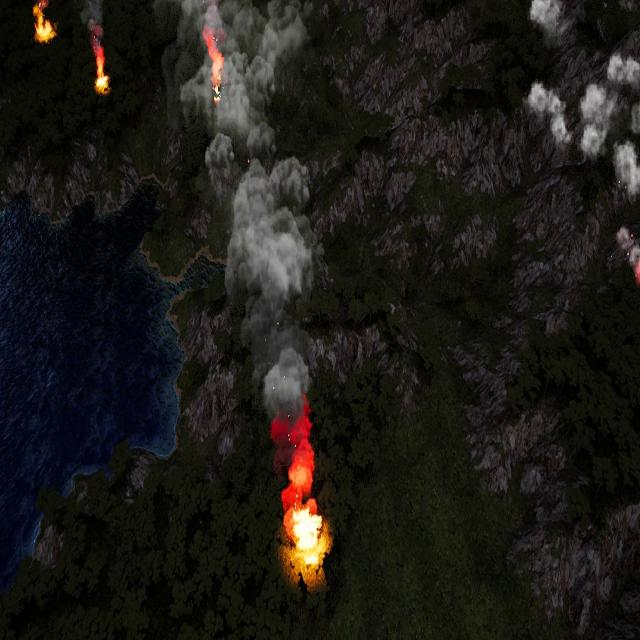fire: (284, 505, 326, 573), (204, 32, 225, 99), (32, 1, 54, 39), (94, 48, 110, 95)
smoke: (153, 0, 322, 499), (521, 52, 640, 198), (524, 0, 582, 44), (613, 215, 640, 281), (81, 0, 105, 47)
